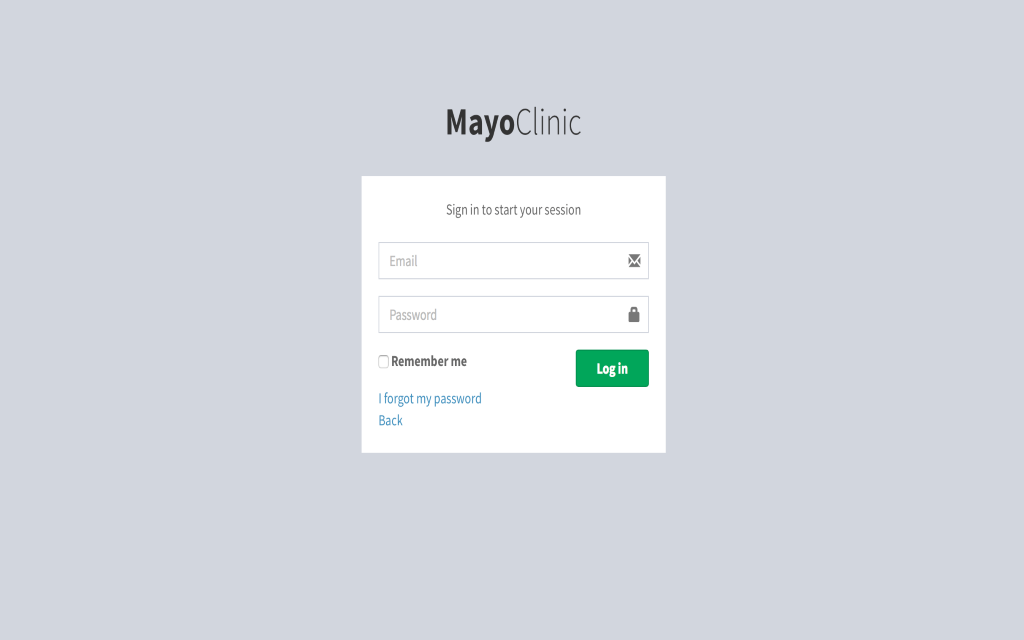button: (575, 350, 649, 386)
checkbox: (376, 355, 389, 368)
label_email: (387, 251, 423, 269)
label_password: (387, 304, 439, 324)
label_remember: (391, 353, 470, 371)
textbox: (378, 241, 624, 279), (380, 296, 626, 332)
url: (373, 390, 482, 407), (375, 412, 406, 429)
